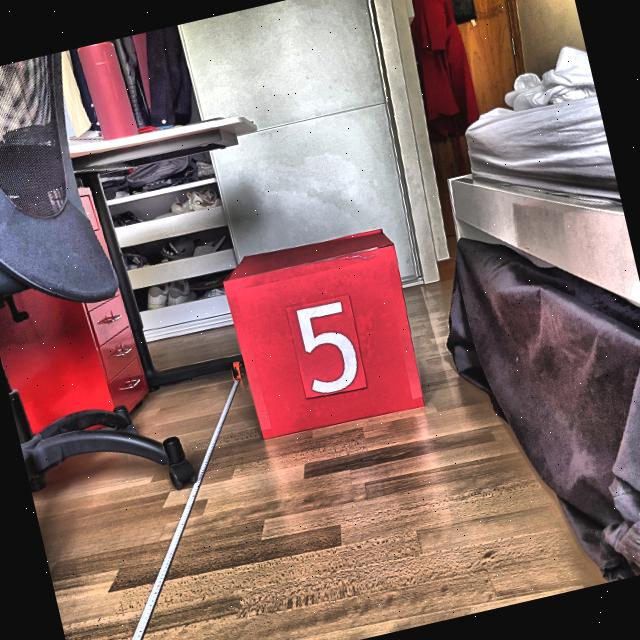five: (292, 296, 368, 398)
red box: (216, 219, 431, 446)
